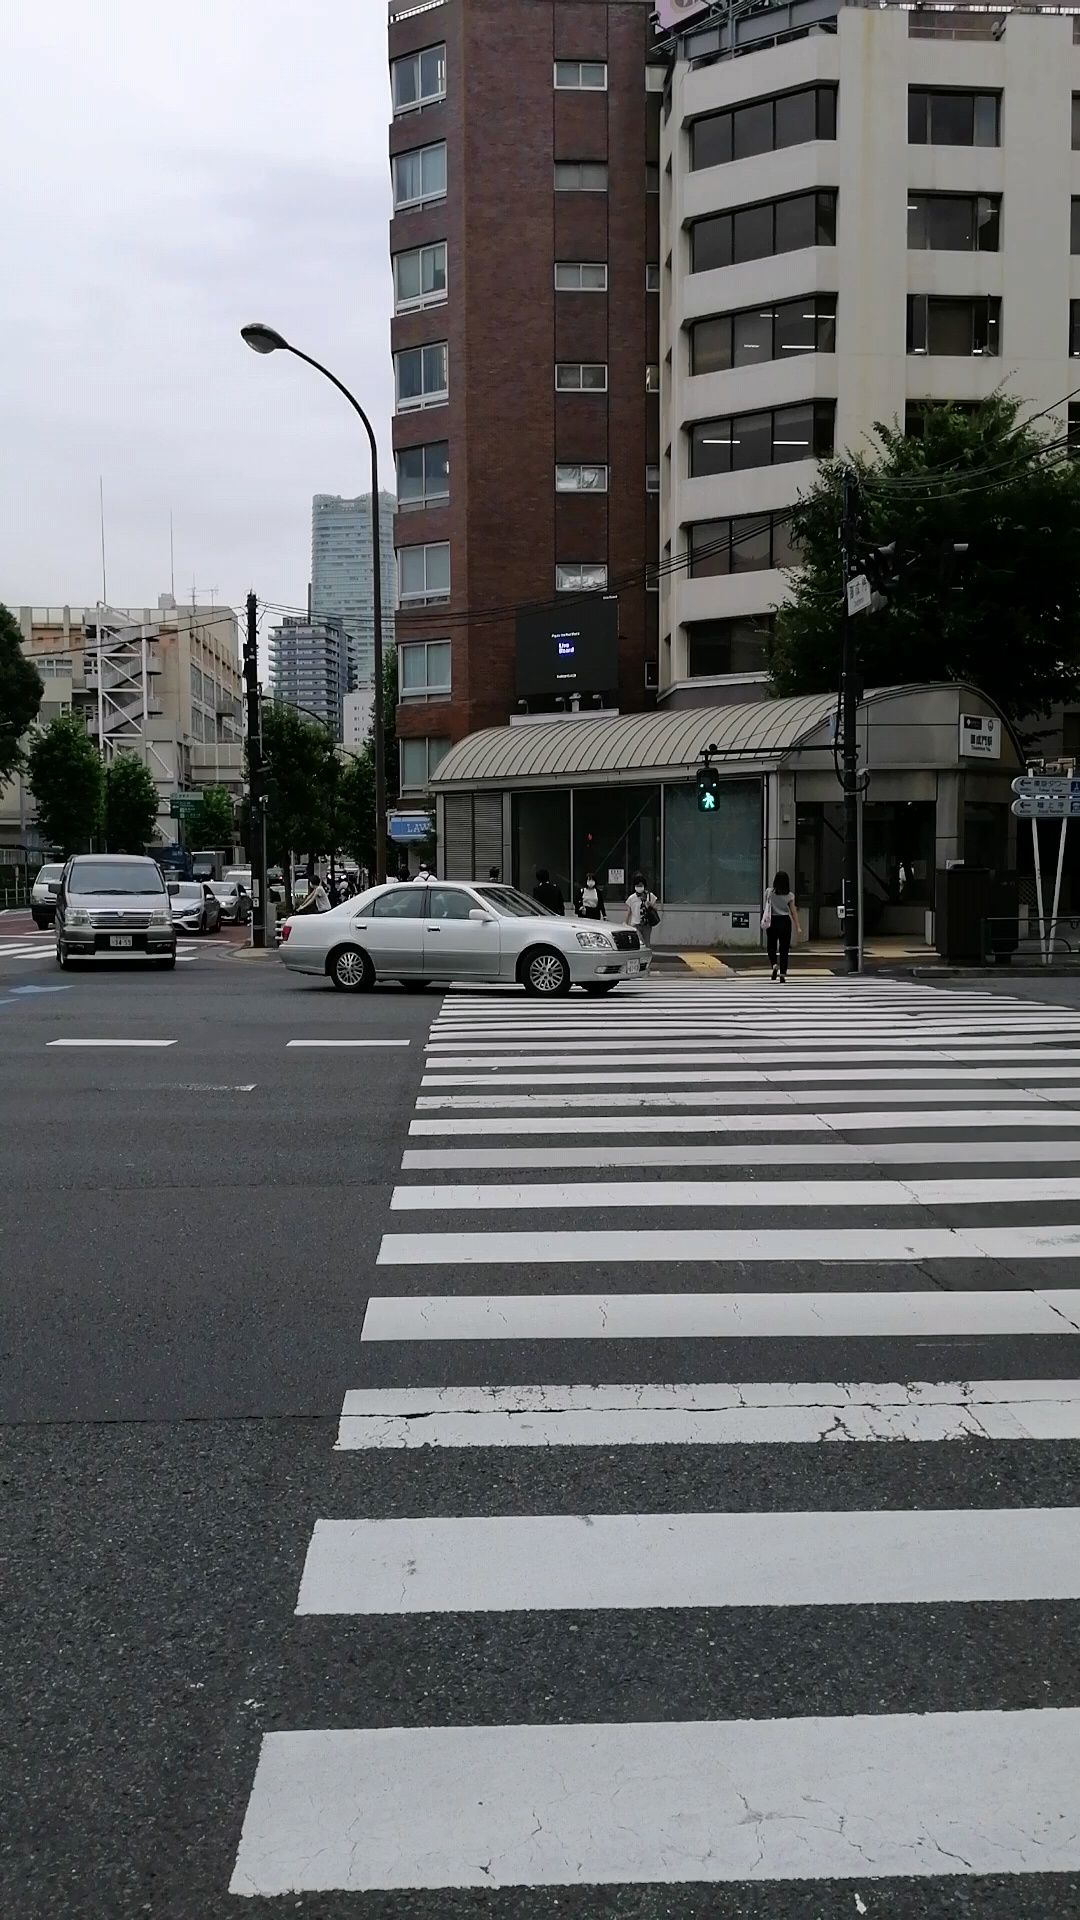green: (694, 766, 721, 814)
